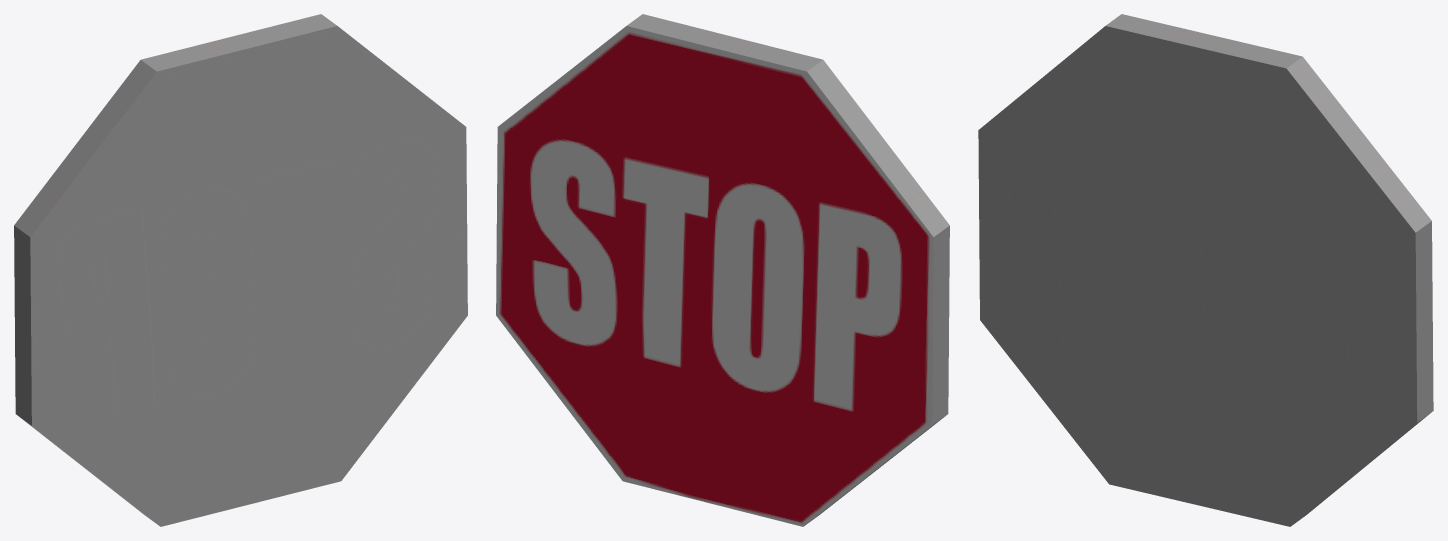
The model's file is Stop sign.fbx.
The picture shows the model from 3 angles, left to right: view 1: azimuth 30°, elevation 25°; view 2: azimuth 150°, elevation 25°; view 3: azimuth 330°, elevation 25°; orthographic projection.
Parts seen in each view (by area): view 1: Circle; view 2: Circle; view 3: Circle.
Part boxes in pixels (bbox=[...]): Circle: bbox=[14, 14, 467, 526]; Circle: bbox=[496, 14, 949, 526]; Circle: bbox=[978, 14, 1433, 526].
Bounding box in the file's own units: 181 × 181 × 11.67.
1 material, 1 textured.
